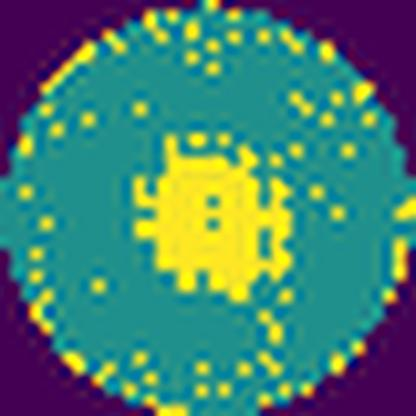Center: (134, 134, 295, 305)
